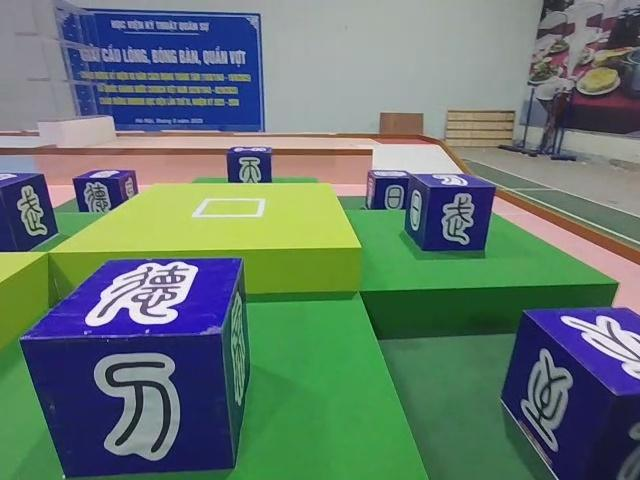R2 Fake Blue: (17, 257, 251, 480), (501, 298, 640, 480), (401, 174, 495, 254), (0, 174, 59, 253), (70, 168, 137, 212), (363, 168, 412, 210), (223, 146, 271, 185)
